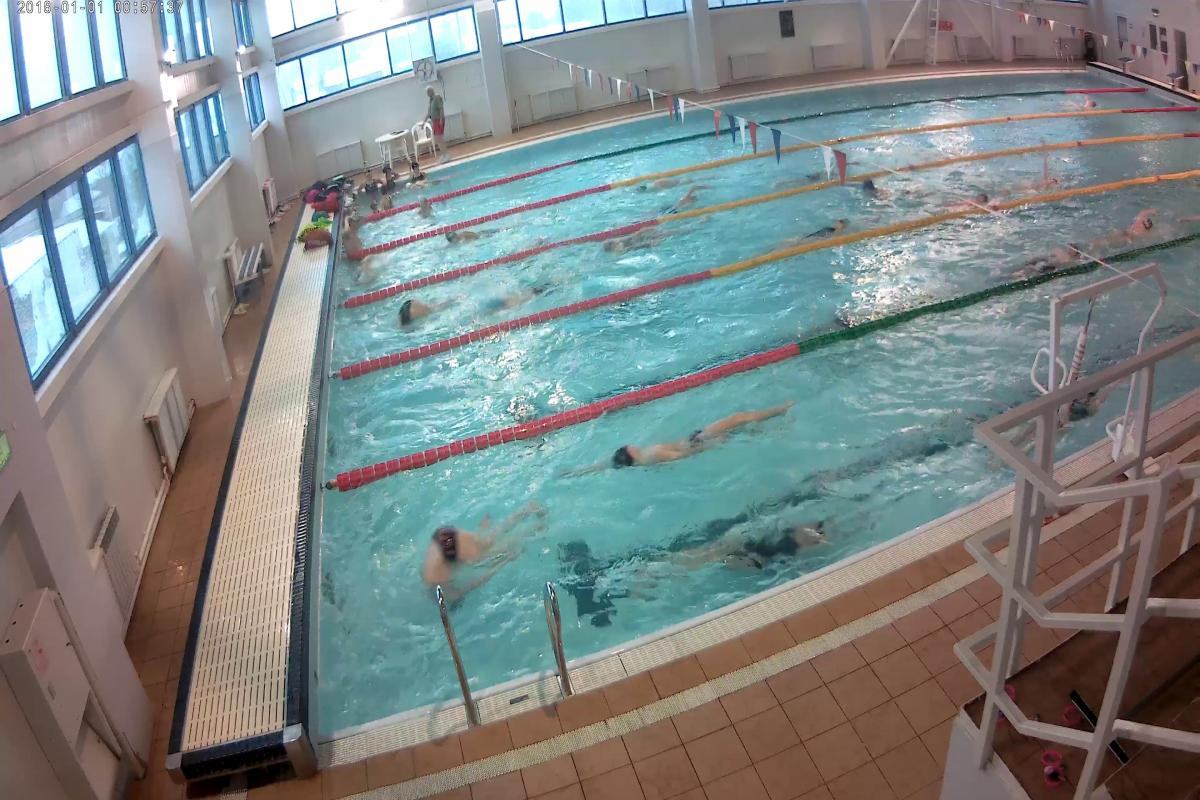swimmer: (592, 399, 804, 475), (413, 499, 537, 585), (715, 507, 836, 570), (1009, 230, 1085, 282), (779, 208, 861, 246), (1103, 200, 1167, 243), (388, 294, 450, 330), (936, 179, 1004, 211), (598, 229, 659, 259), (432, 223, 485, 253), (666, 178, 716, 209), (1026, 150, 1063, 190), (854, 177, 897, 203)
